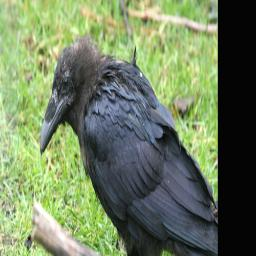Crow: (38, 35, 217, 256)
